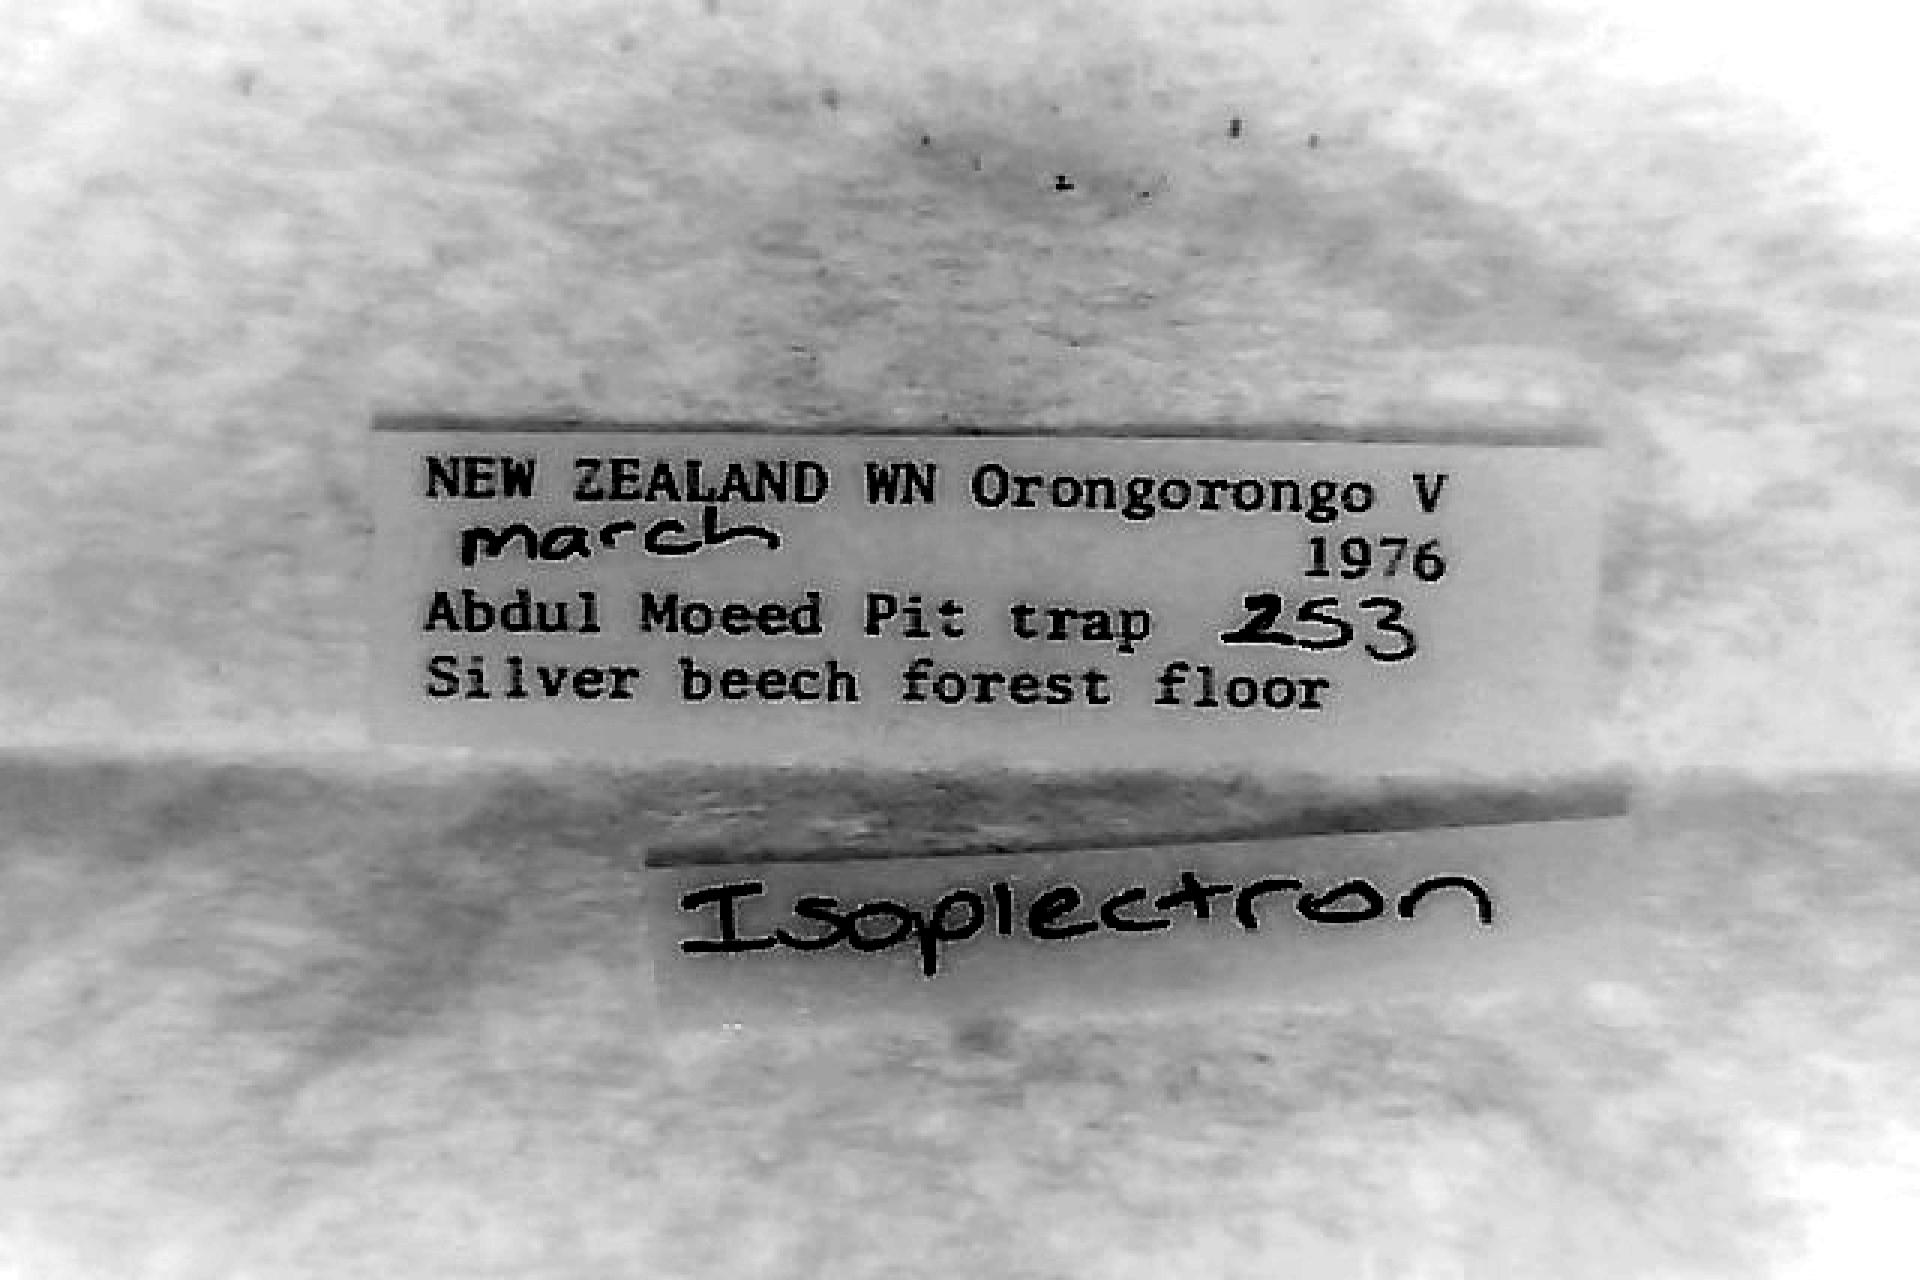hand_label: (651, 818, 1628, 1020)
mixed_label: (375, 427, 1605, 768)
